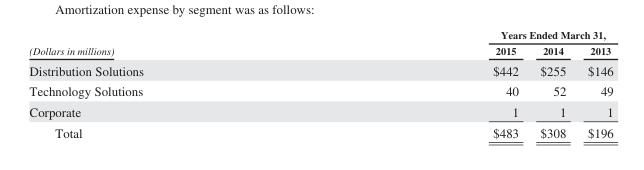table: (28, 28, 612, 139)
table column: (28, 28, 317, 139), (317, 28, 528, 139), (528, 28, 576, 139), (576, 28, 612, 139)
table column header: (28, 28, 612, 59)
table row: (28, 59, 612, 80), (28, 80, 612, 101), (28, 101, 612, 121), (28, 121, 612, 139), (28, 42, 612, 59), (28, 28, 612, 42)
table spanning cell: (28, 28, 317, 59), (317, 28, 612, 42)
